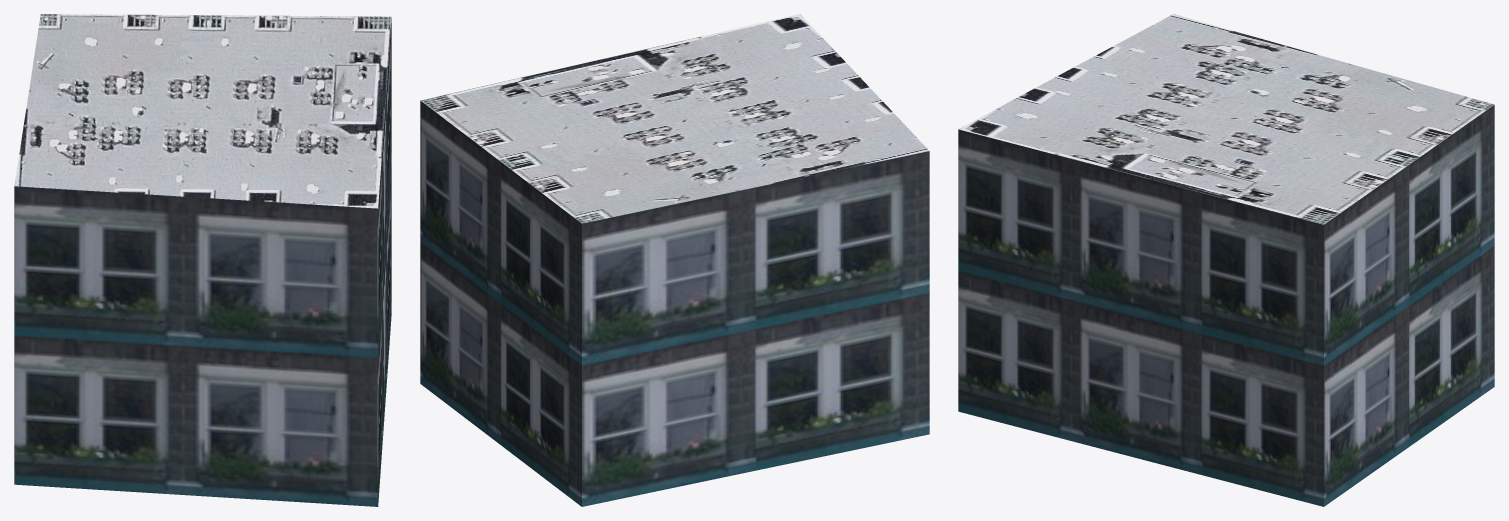
File: ResTex__3040.fbx
3 views of the same model, side by side, from view 1: azimuth 30°, elevation 25°; view 2: azimuth 150°, elevation 25°; view 3: azimuth 270°, elevation 25° (orthographic). The views are drawn at different scales.
Visible parts, largest first — view 1: CityEngineMaterial_11_m, CityEngineMaterial_2_m; view 2: CityEngineMaterial_11_m, CityEngineMaterial_2_m; view 3: CityEngineMaterial_11_m, CityEngineMaterial_2_m.
Boxes of the visible parts, left/top/right/bottom form: CityEngineMaterial_11_m: left=14, top=18, right=391, bottom=506; CityEngineMaterial_2_m: left=14, top=14, right=391, bottom=208; CityEngineMaterial_11_m: left=420, top=101, right=929, bottom=506; CityEngineMaterial_2_m: left=420, top=14, right=928, bottom=223; CityEngineMaterial_11_m: left=958, top=105, right=1494, bottom=506; CityEngineMaterial_2_m: left=958, top=14, right=1494, bottom=224.
Size of the model in its own units: 9.61 by 6 by 10.34.
Materials: 2 (2 with a texture image).
